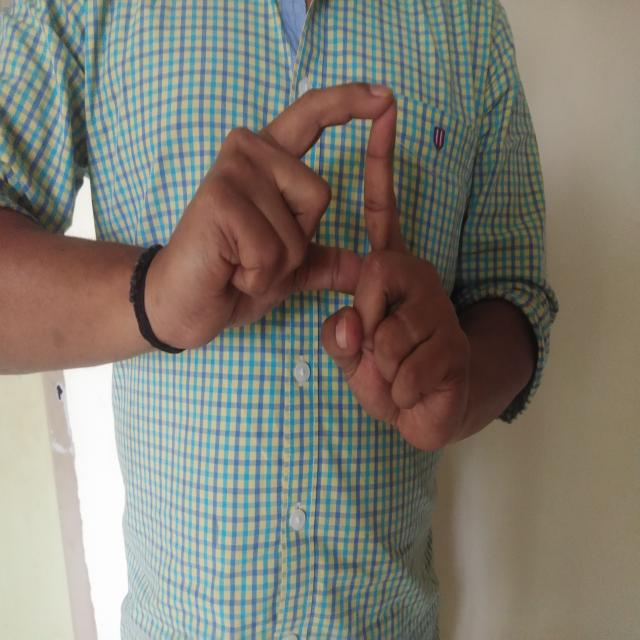D: (158, 70, 494, 462)
